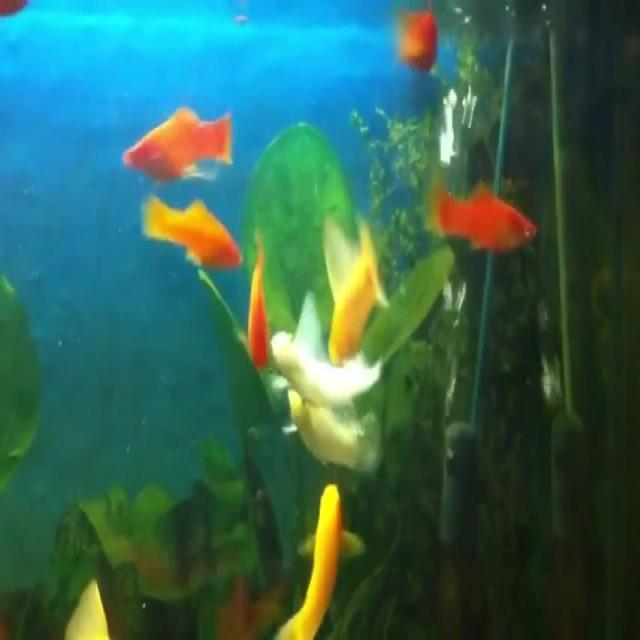PlatyFish: (313, 196, 392, 368), (421, 162, 544, 258), (115, 100, 242, 184), (134, 189, 250, 280)
